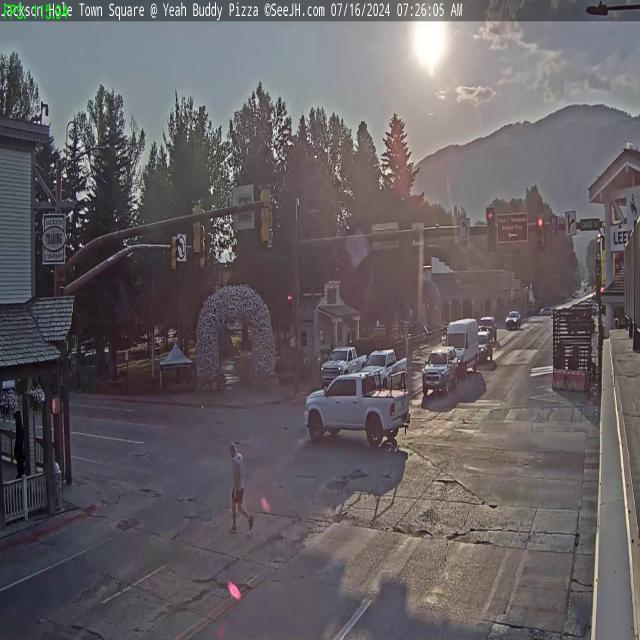person: (227, 442, 251, 529)
pickup: (308, 372, 410, 449), (362, 352, 410, 386), (316, 350, 366, 381)
suv: (422, 345, 461, 396)
traffic light: (260, 185, 273, 245), (190, 199, 203, 256), (486, 208, 497, 253), (172, 233, 180, 277), (536, 216, 544, 250)
van: (448, 318, 480, 375)
